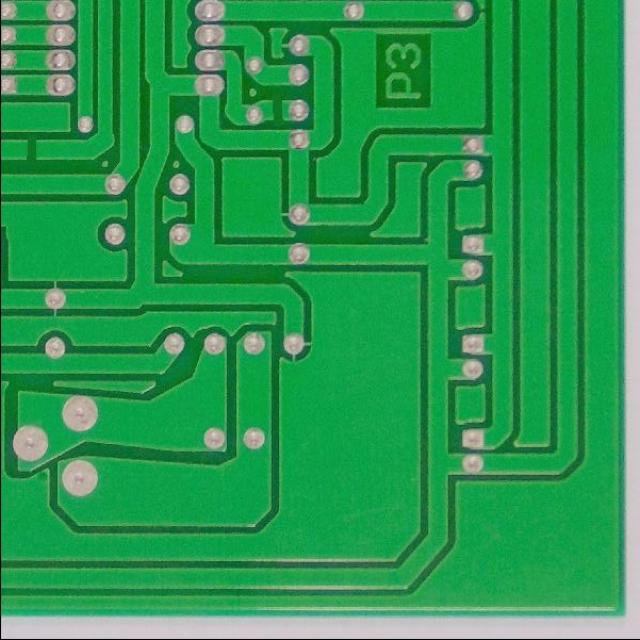Open_Circuit: (16, 124, 48, 176), (263, 83, 288, 135)
